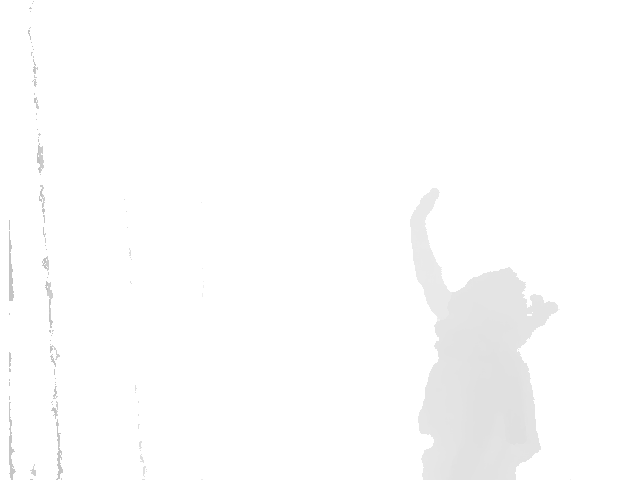hand: (408, 187, 441, 226)
head: (443, 267, 559, 352)
person: (406, 185, 561, 479)
